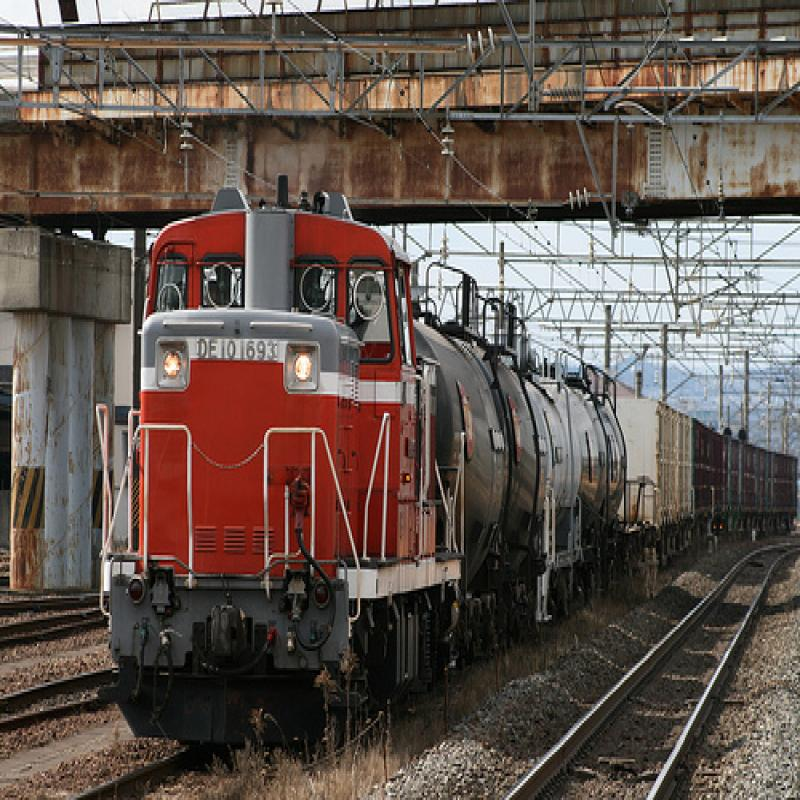train: (97, 189, 800, 749)
